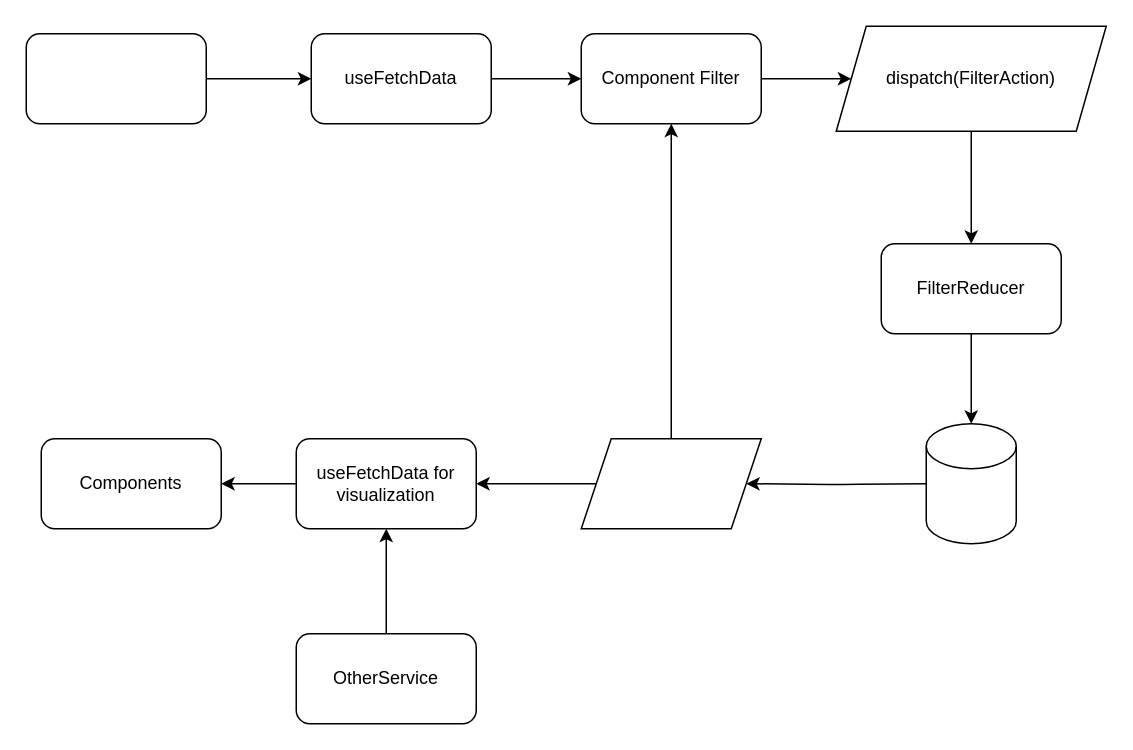
Some shapes in this 1133 by 750 pixel diagram are drawn without their labels. Here are the shapes that lost their labels. From the top down, the centre of each, then its label:
At (115,78): "FilterService".
At (670,483): "useSelectFilter".
At (970,483): "Redux State".
